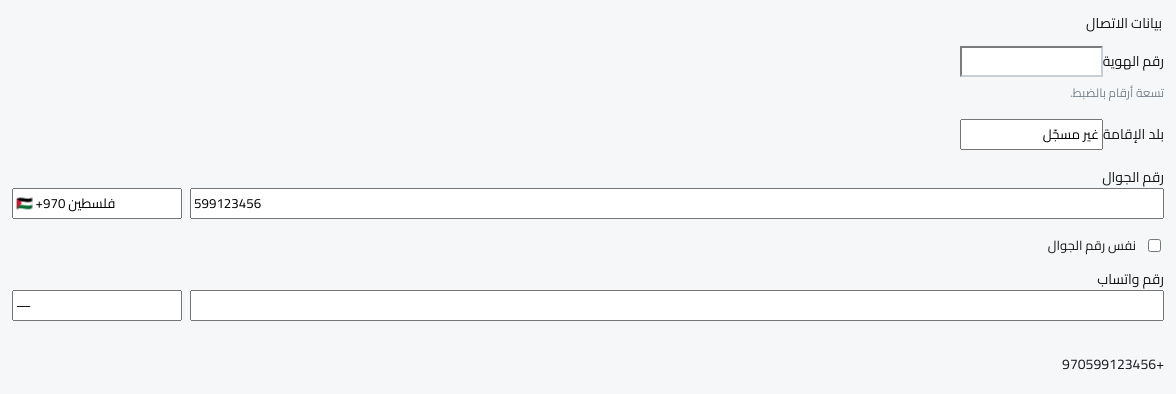
Scenario: ContactFields › recomposes after the saved digits are cleared and new ones typed
Replace the text in the field named "الرقم" with "598888888": [677, 204] box x1=190 y1=188 x2=1164 y2=219
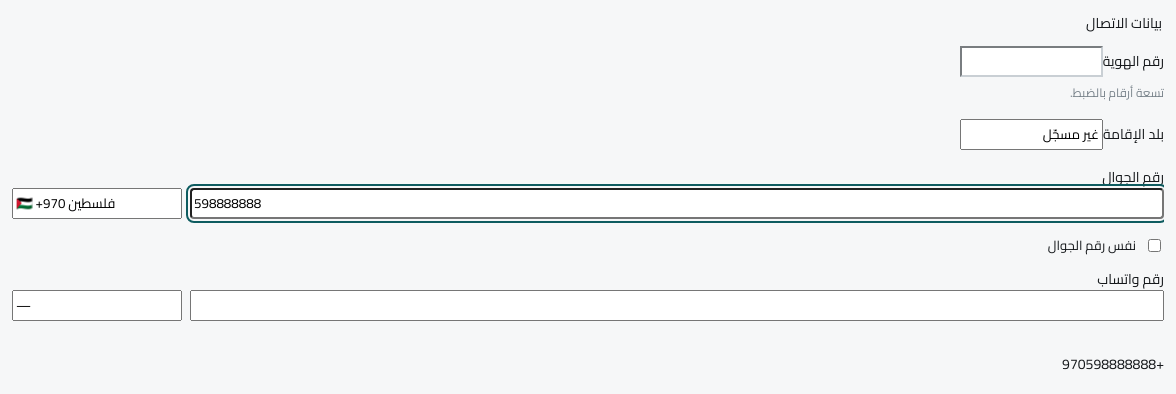
Expected: the text with test id "mobile" reads "+970598888888", x1=1062 y1=351 x2=1164 y2=377
